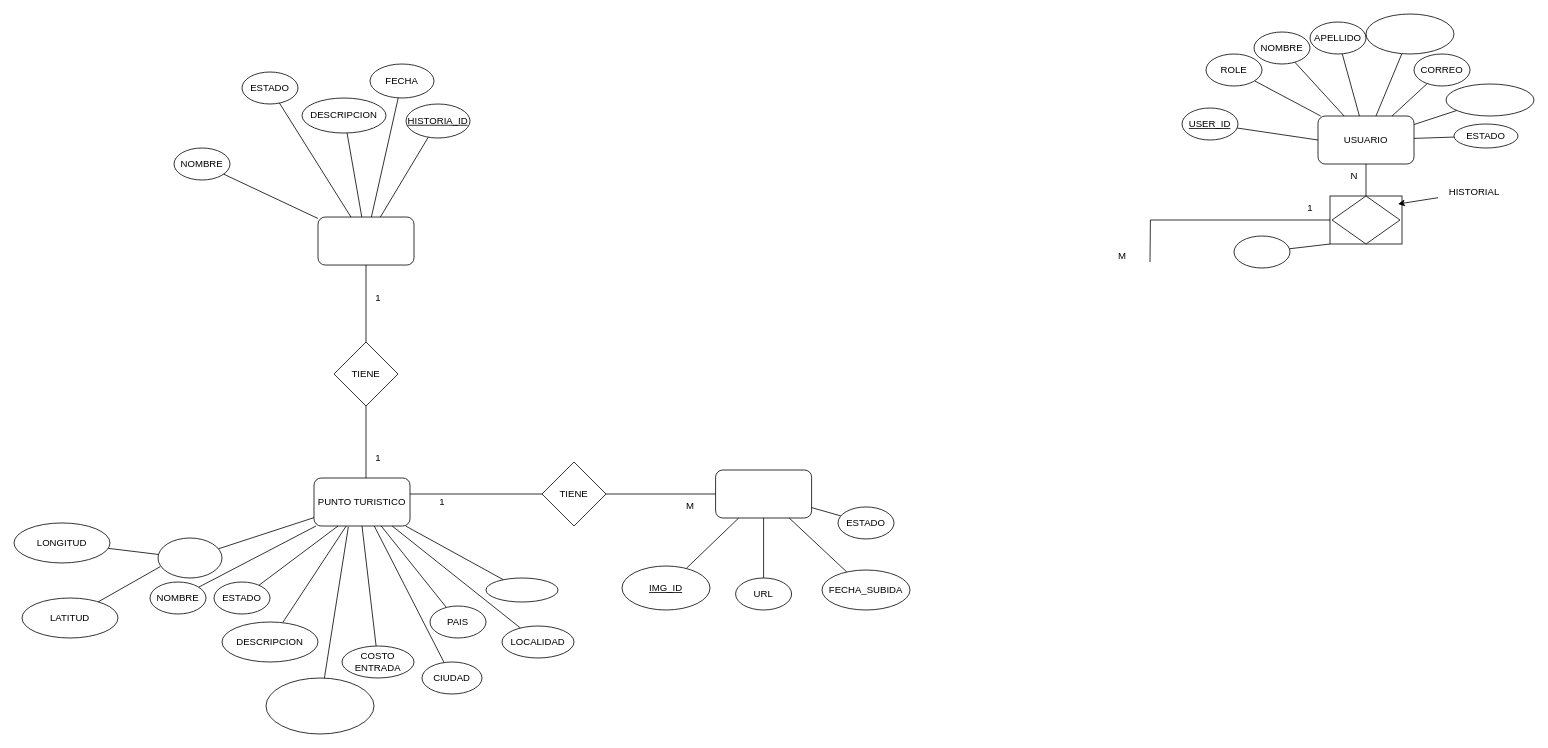
The diagram is 1548 pixels wide and 748 high, and some of its shapes have lost their labels. Each missing label, with the centre of its shape:
CONTRASEÑA: [1489,99]
FECHA DE NACIMIENTO: [1409,33]
fecha_hora: [1261,251]
HISTO RIA: [365,240]
HORARIO APERTURA/CIERE: [319,705]
IMAGEN: [763,493]
LUAR_ID: [521,589]
UBICACION: [189,557]
VISITA: [1365,219]
